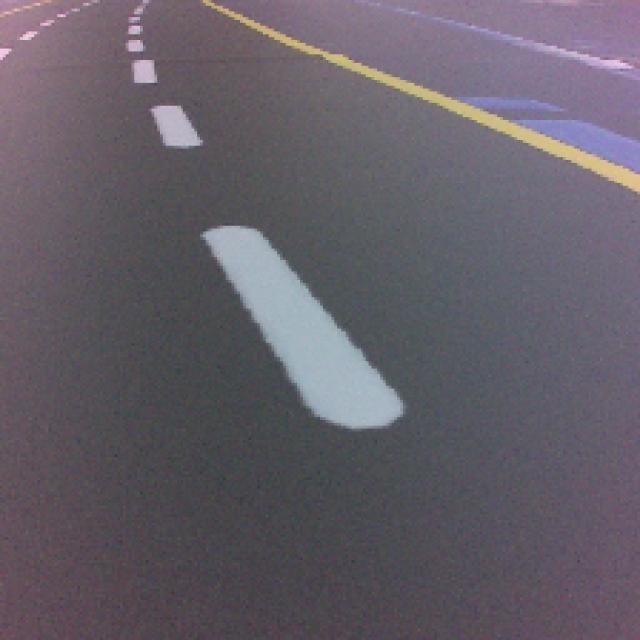Pedestrian crosswalk: (207, 223, 404, 433)
